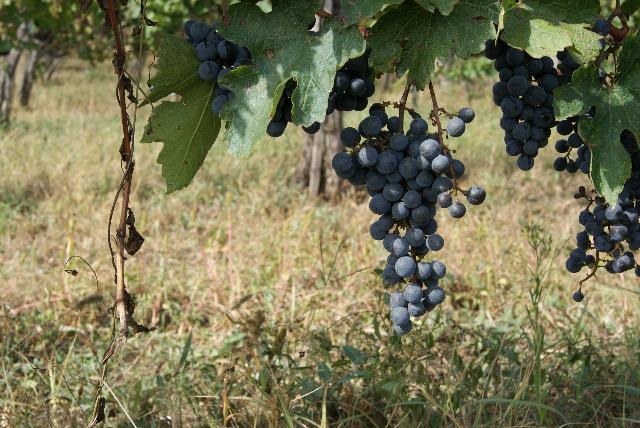grapes: (332, 104, 465, 335), (484, 39, 559, 171)
